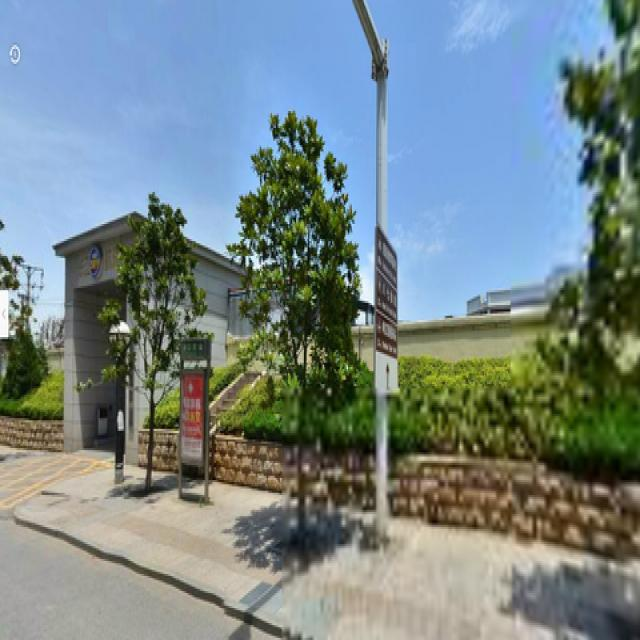magn: (109, 196, 203, 493)
